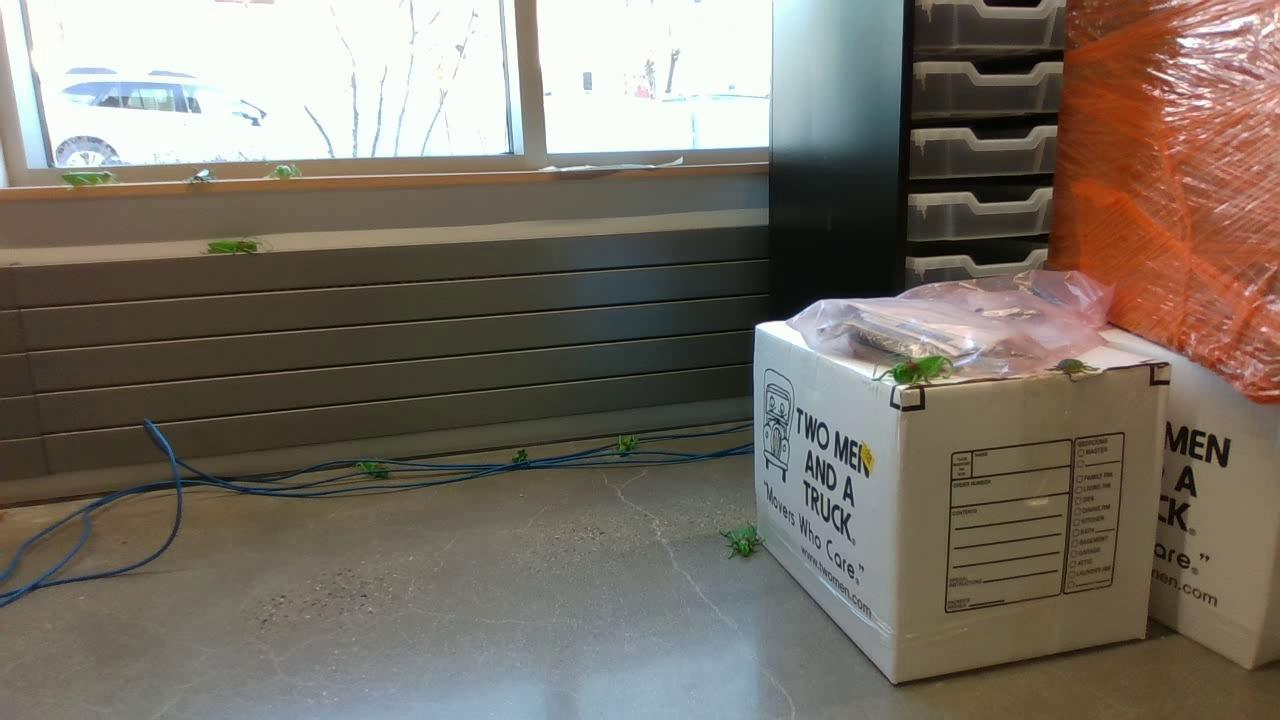grasshopper: (871, 349, 962, 386), (711, 516, 763, 559), (200, 235, 261, 255), (350, 455, 393, 480), (61, 168, 115, 187), (267, 165, 307, 180), (612, 433, 631, 457)
